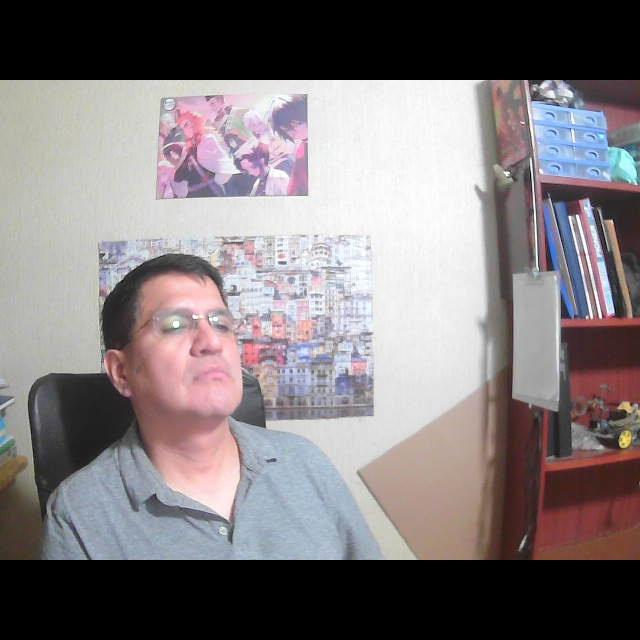cesar: (87, 238, 266, 478)
